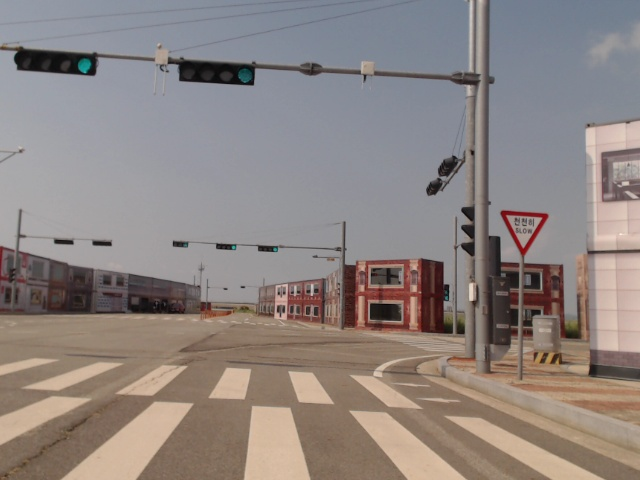straight_green_4: (17, 51, 98, 77), (178, 62, 256, 87), (257, 244, 279, 254), (216, 243, 237, 250)
